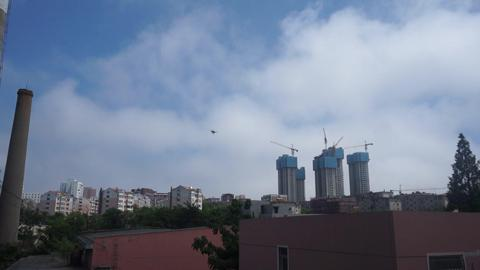UAV: (209, 128, 219, 135)
